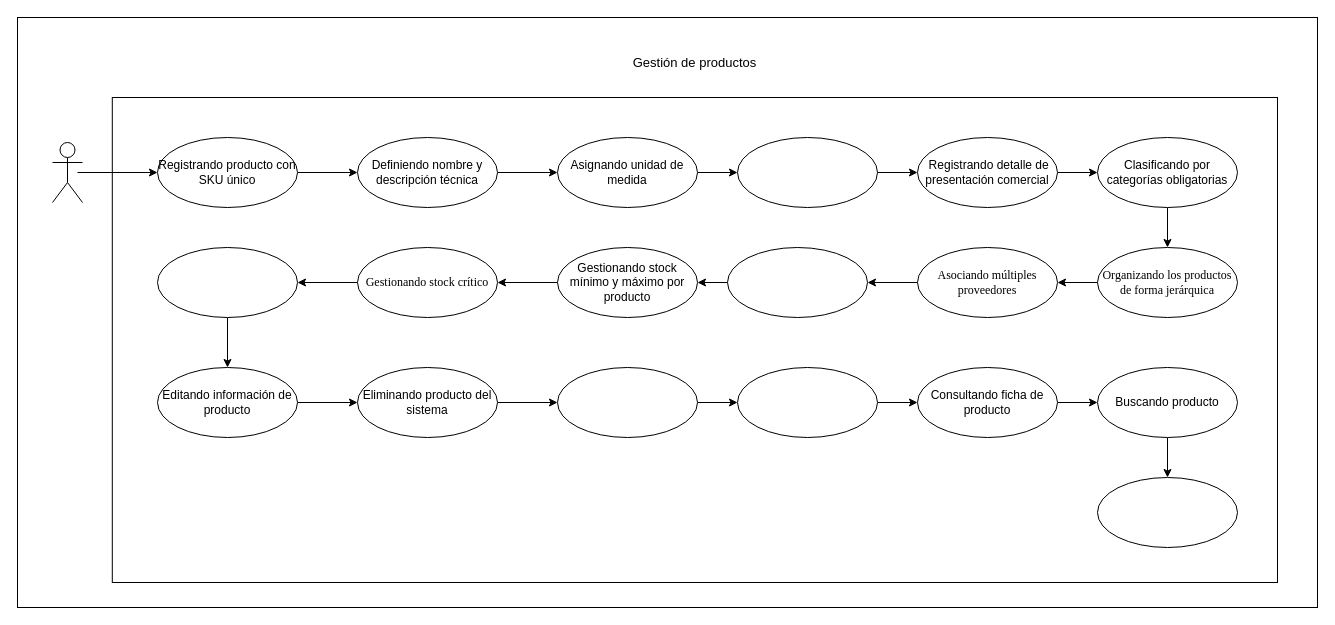
This 1335x625 diagram has some shape labels left out. The centre of each missing label's shape, as x and y in pixels:
Consultando historial de precios unitarios: the point at 1167,512
Duplicando producto existente: the point at 807,172
Gerencia: the point at 67,172
Identificando productos críticos: the point at 227,282
Reactivando producto desactivado: the point at 627,402
Registrando tiempos de reposición por proveedor: the point at 797,282
Visualizando listado maestro de productos: the point at 807,402
